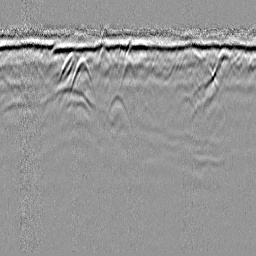cavity: (120, 55, 137, 87)
